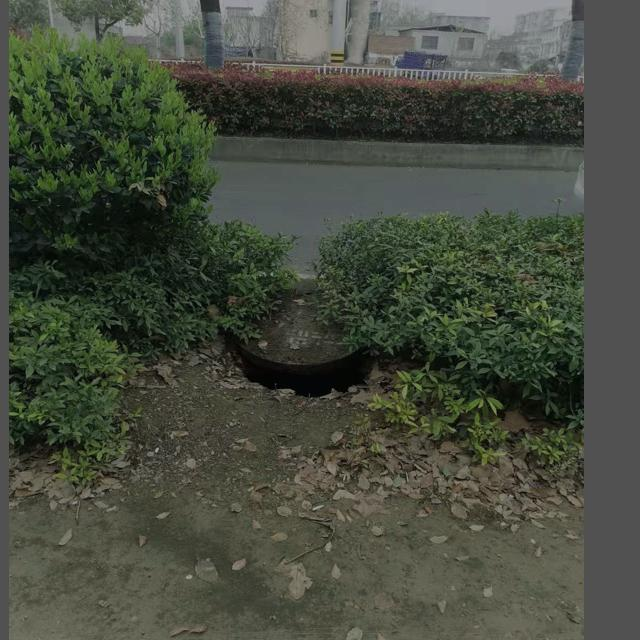uncovered: (223, 297, 374, 401)
